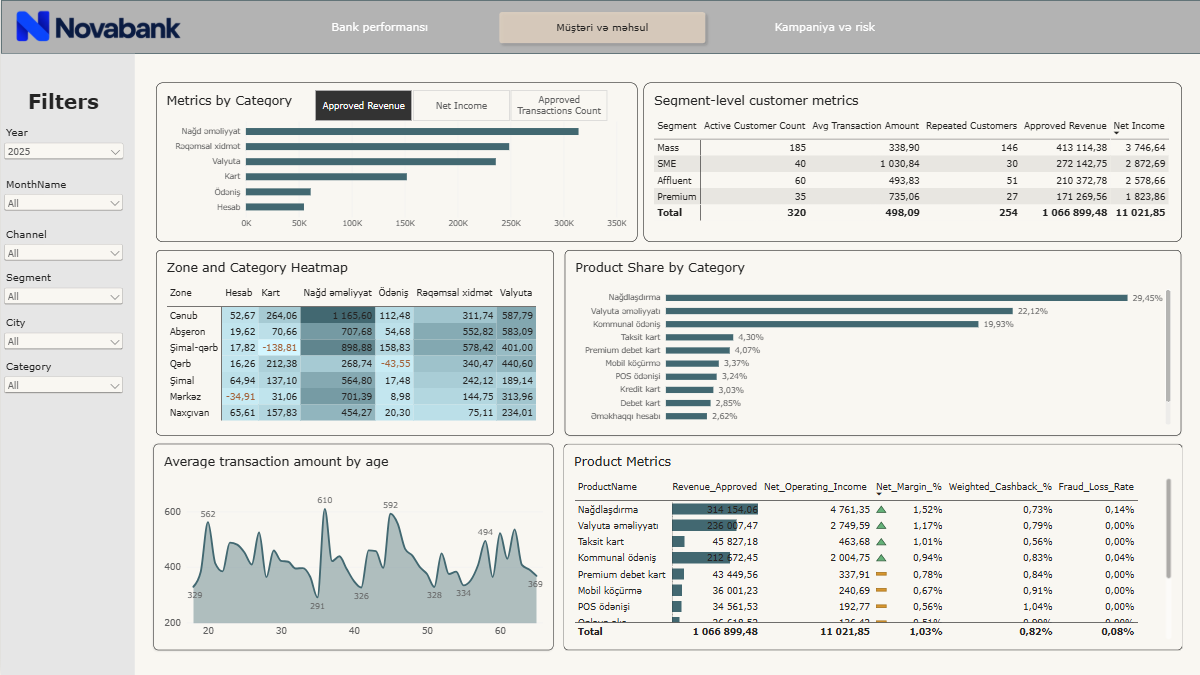

The page's visual inventory and layout, read from the dashboard file:
{"tool":"powerbi","page":{"name":"Müştəri və məhsul","canvas":[1920,1080],"ordinal":1},"visuals":[{"type":"lineChart","title":"Average transaction amount by age","fields":{"Category":["Customers.Age"],"Y":["Metrics.Avg_Transaction_Amount"]},"box":[243.3,710,640,330],"z":0},{"type":"shape","box":[0,0,1920,86],"z":1000},{"type":"pageNavigator","box":[432,10,1062,68],"z":2000},{"type":"image","box":[0,0,312,84],"z":3000},{"type":"shape","box":[0,86,214,994],"z":4000},{"type":"slicer","fields":{"Values":["Calendar.Year"]},"box":[0,202,200.9,67],"z":5000},{"type":"slicer","fields":{"Values":["Calendar.MonthName"]},"box":[0,284,200,65.7],"z":6000},{"type":"slicer","fields":{"Values":["Customers.Segment"]},"box":[0,434,200,70],"z":7000},{"type":"slicer","fields":{"Values":["Transactions_2024_2025.Channel"]},"box":[0,364,200,70],"z":8000},{"type":"slicer","fields":{"Values":["Branches.City"]},"box":[0,506,200,70],"z":9000},{"type":"textbox","box":[0,142,200,44],"z":10000},{"type":"pivotTable","title":"Segment-level customer metrics","fields":{"Rows":["Customers.Segment"],"Values":["Metrics.Active_Customers_Count","Metrics.Avg_Transaction_Amount","Metrics.Repeat_Customer_Count","Metrics.Revenue_Approved","Metrics.Net_Operating_Income"]},"box":[1027.5,132.5,861.7,255],"z":11000},{"type":"clusteredBarChart","title":"Metrics by Category","fields":{"Category":["Products.Category"],"Y":["Metrics.Revenue_Approved"]},"box":[247.5,132.5,770,255],"z":12000},{"type":"slicer","fields":{"Values":["Metric Selector.Metric Selector"]},"box":[482.5,142.5,507.1,52.9],"z":13000},{"type":"pivotTable","title":"Zone and Category Heatmap","fields":{"Columns":["Products.Category"],"Rows":["Branches.Zone"],"Values":["Metrics.Net_Operating_Income"]},"box":[247.5,400,636.7,296.7],"z":14000},{"type":"barChart","title":"Product Share by Category","fields":{"Category":["Products.ProductName"],"Y":["Metrics.Product_Share_of_Category"]},"box":[902.5,400,986.7,296.7],"z":15000},{"type":"slicer","fields":{"Values":["Products.Category"]},"box":[0,576.7,200,70],"z":16000},{"type":"tableEx","title":"Product Metrics","fields":{"Values":["Products.ProductName","Metrics.Revenue_Approved","Metrics.Net_Operating_Income","Metrics.Net_Margin_%","Metrics.Weighted_cashback_percentage","Metrics.Fraud_Loss_Rate"]},"box":[900,710,990,330],"z":17000}]}

Visuals, with their boxes in screenshot pixels (x1, y1, x2, y2), scaled from the page's 1920x1080 canvas onto the 1200x675 screenshot:
"Average transaction amount by age" lineChart: (x1=152, y1=444, x2=552, y2=650)
shape: (x1=0, y1=0, x2=1199, y2=54)
pageNavigator: (x1=270, y1=6, x2=934, y2=49)
image: (x1=0, y1=0, x2=195, y2=52)
shape: (x1=0, y1=54, x2=134, y2=674)
slicer - Calendar.Year: (x1=0, y1=126, x2=126, y2=168)
slicer - Calendar.MonthName: (x1=0, y1=178, x2=125, y2=219)
slicer - Customers.Segment: (x1=0, y1=271, x2=125, y2=315)
slicer - Transactions_2024_2025.Channel: (x1=0, y1=228, x2=125, y2=271)
slicer - Branches.City: (x1=0, y1=316, x2=125, y2=360)
textbox: (x1=0, y1=89, x2=125, y2=116)
"Segment-level customer metrics" pivotTable: (x1=642, y1=83, x2=1181, y2=242)
"Metrics by Category" clusteredBarChart: (x1=155, y1=83, x2=636, y2=242)
slicer - Metric Selector.Metric Selector: (x1=302, y1=89, x2=618, y2=122)
"Zone and Category Heatmap" pivotTable: (x1=155, y1=250, x2=553, y2=435)
"Product Share by Category" barChart: (x1=564, y1=250, x2=1181, y2=435)
slicer - Products.Category: (x1=0, y1=360, x2=125, y2=404)
"Product Metrics" tableEx: (x1=562, y1=444, x2=1181, y2=650)
